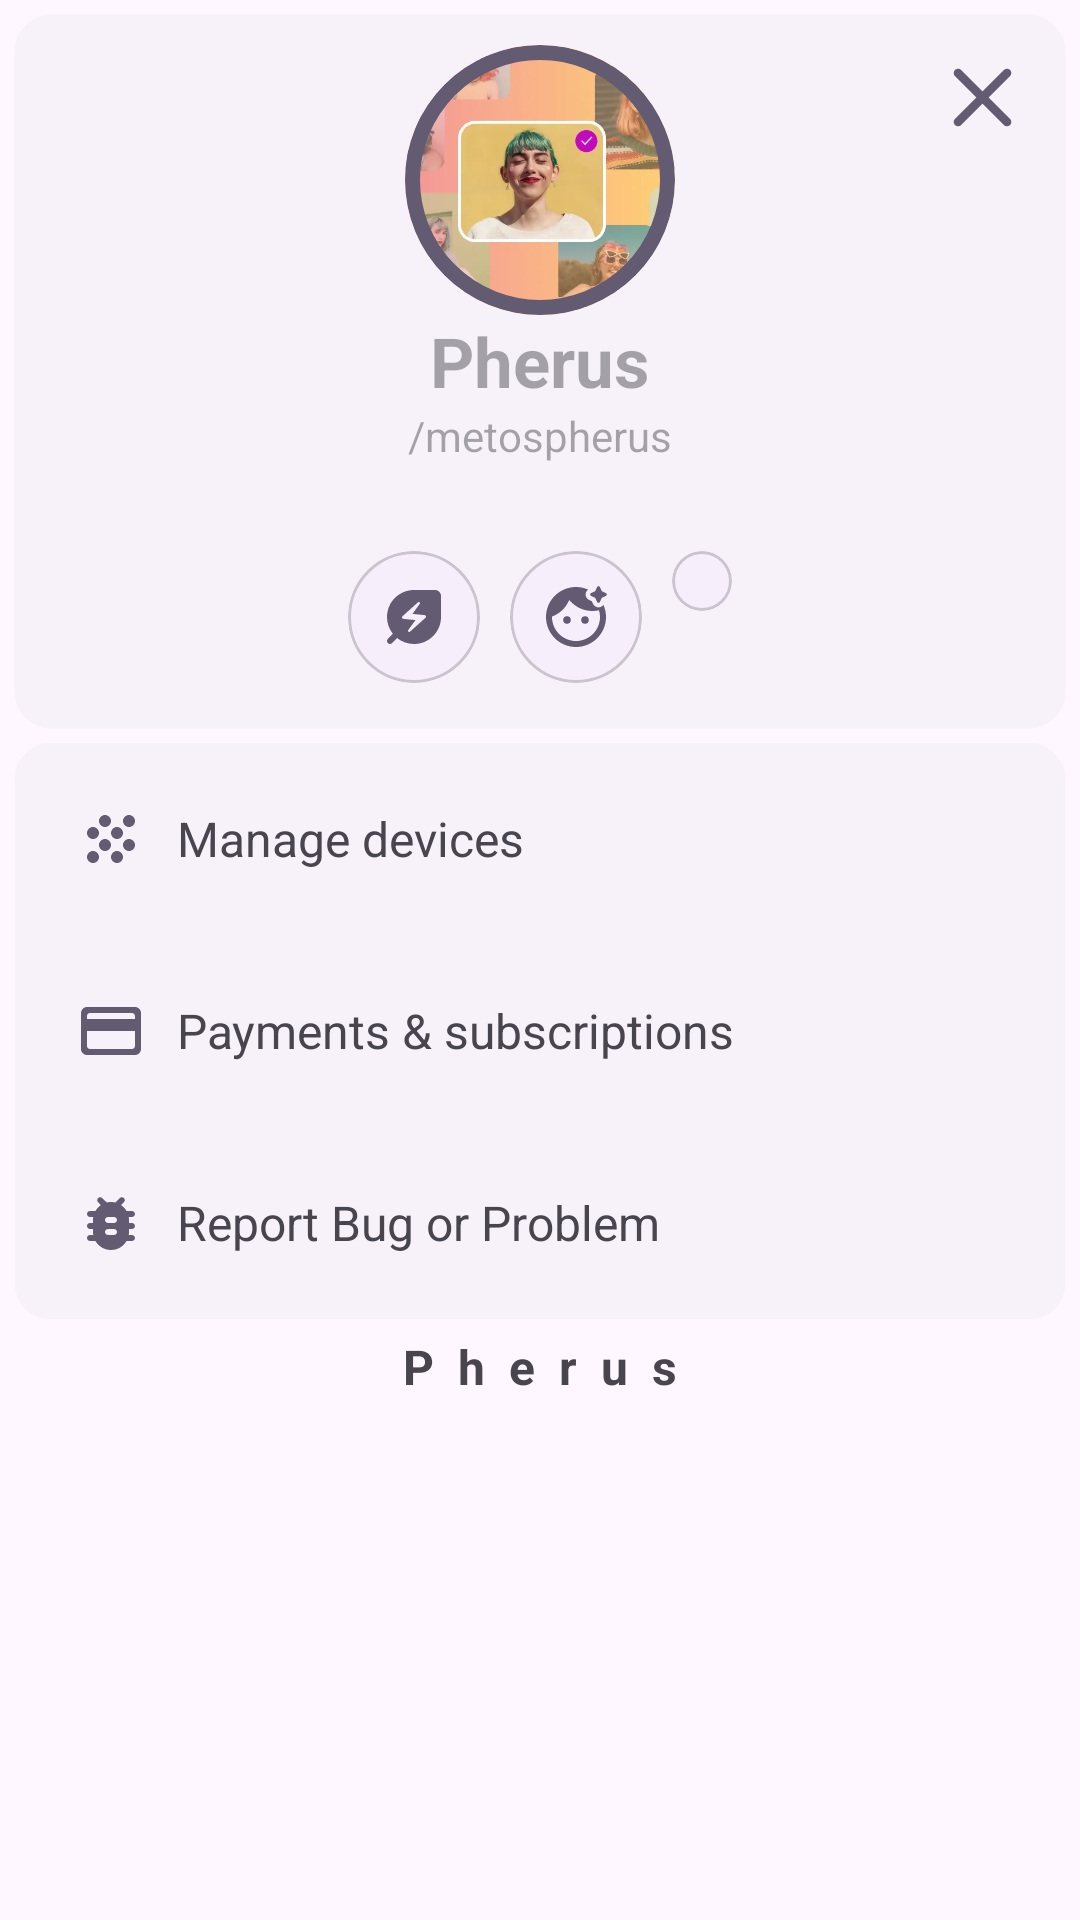

Icons on this 1080 x 1920 Android screen, each with the point to tap as [x,y]:
close: [982,97]
